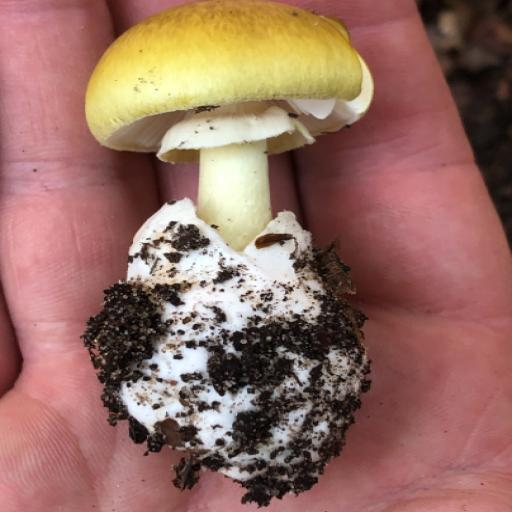mushroom: (68, 0, 381, 179), (192, 141, 274, 254)
